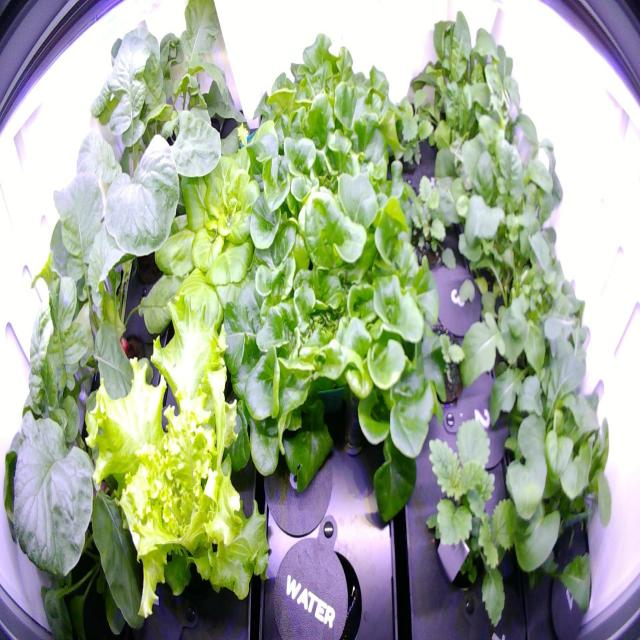young: (135, 122, 300, 352)
